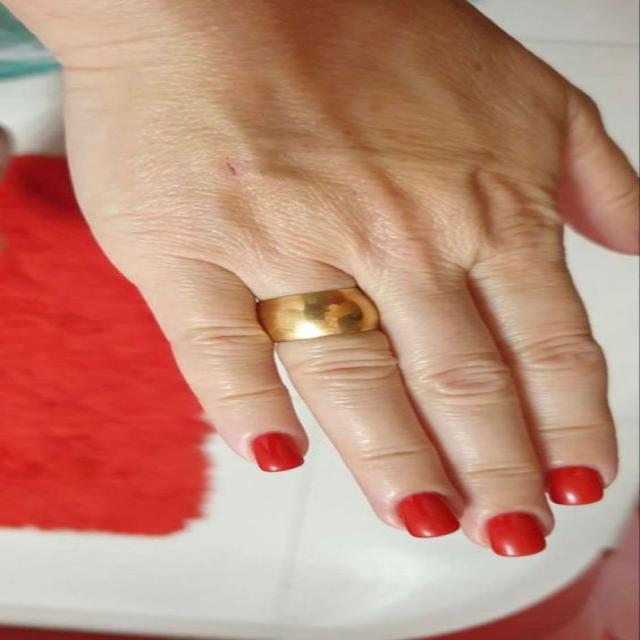Fingernail: (396, 492, 460, 538), (488, 512, 546, 556), (251, 430, 304, 472), (546, 466, 602, 505)
